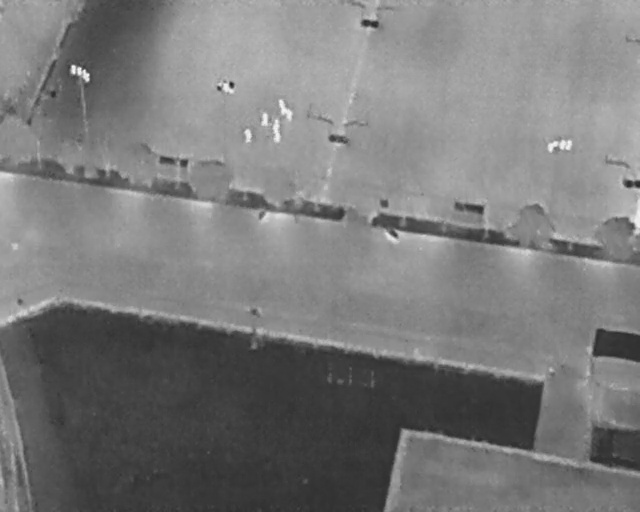Person: (260, 111, 269, 126), (273, 130, 282, 145), (244, 129, 253, 143), (272, 119, 280, 134), (278, 99, 285, 115), (286, 108, 293, 121)
